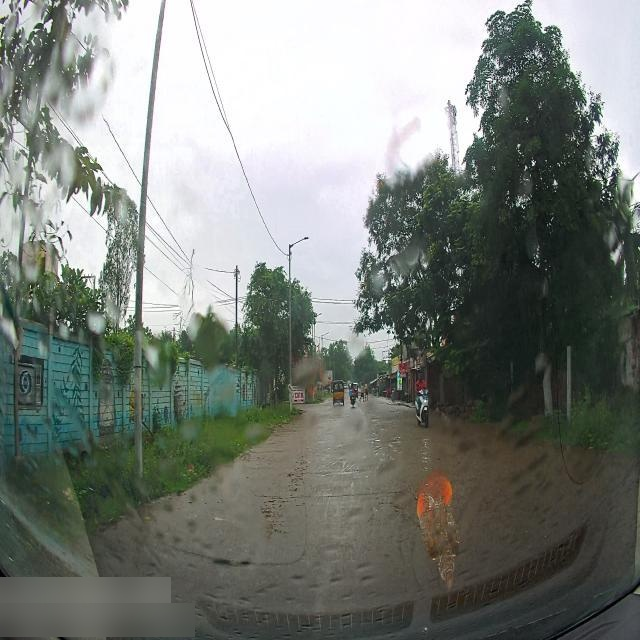pothole: (261, 492, 283, 545), (288, 466, 308, 504)
